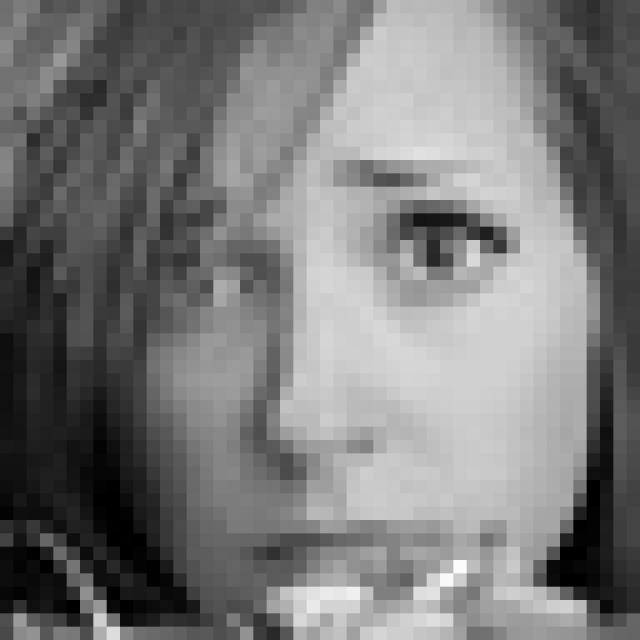fear: (153, 153, 528, 596)
